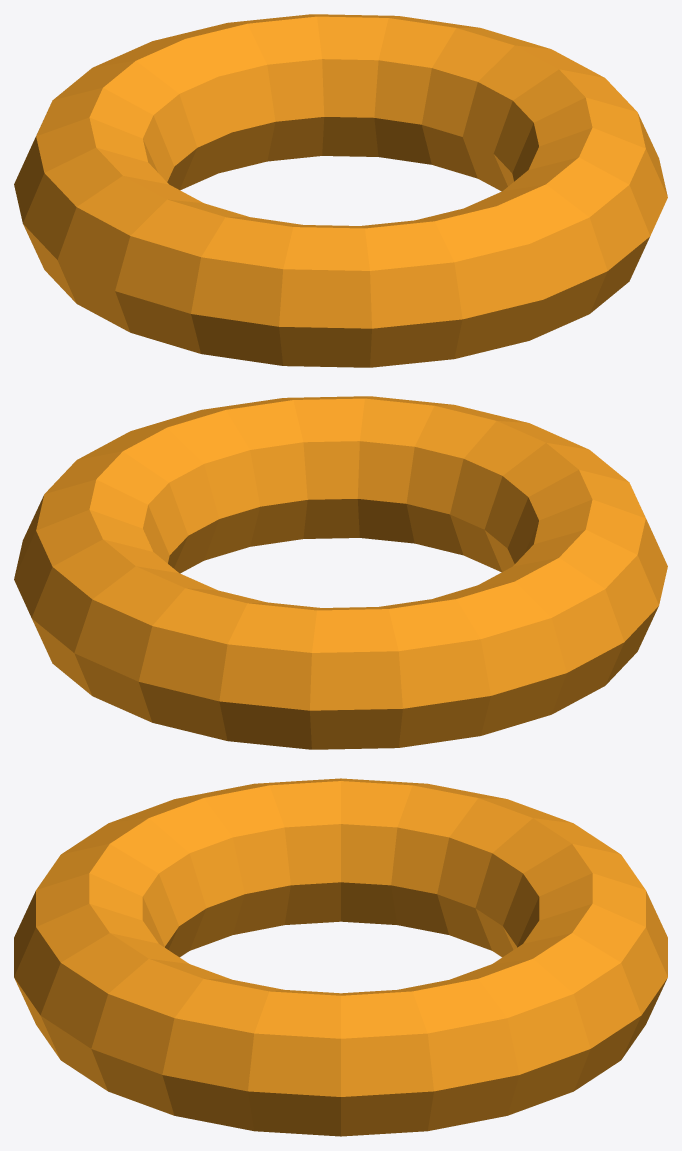
The picture shows the model from 3 angles, top to bottom: view 1: azimuth 30°, elevation 25°; view 2: azimuth 150°, elevation 25°; view 3: azimuth 270°, elevation 25°; orthographic projection.
Parts seen in each view (by area): view 1: SM_Primitive_Torus_04; view 2: SM_Primitive_Torus_04; view 3: SM_Primitive_Torus_04.
Part boxes in pixels (x1,y1,x2,y2): SM_Primitive_Torus_04: [14, 14, 667, 367]; SM_Primitive_Torus_04: [14, 396, 667, 749]; SM_Primitive_Torus_04: [14, 778, 667, 1136].
Size of the model in its own units: 99.73 by 23.02 by 98.72.
